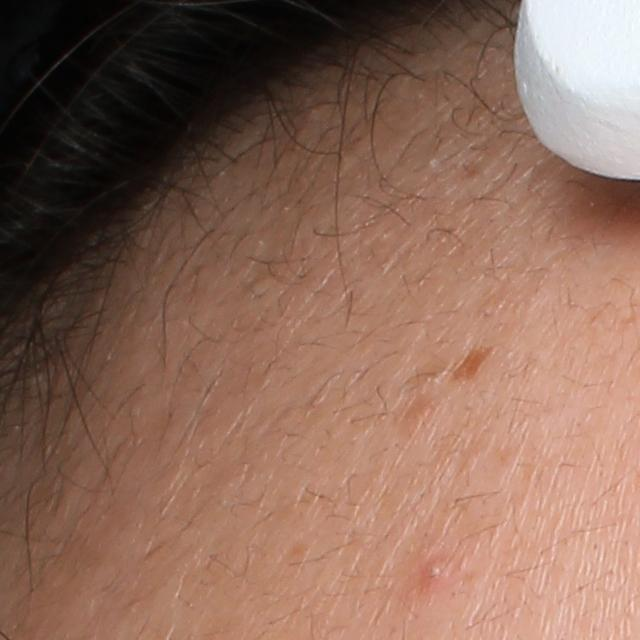melasma: (449, 346, 498, 385)
